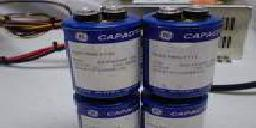Electrolytic-capacitor: (61, 4, 142, 104), (142, 3, 216, 104)
